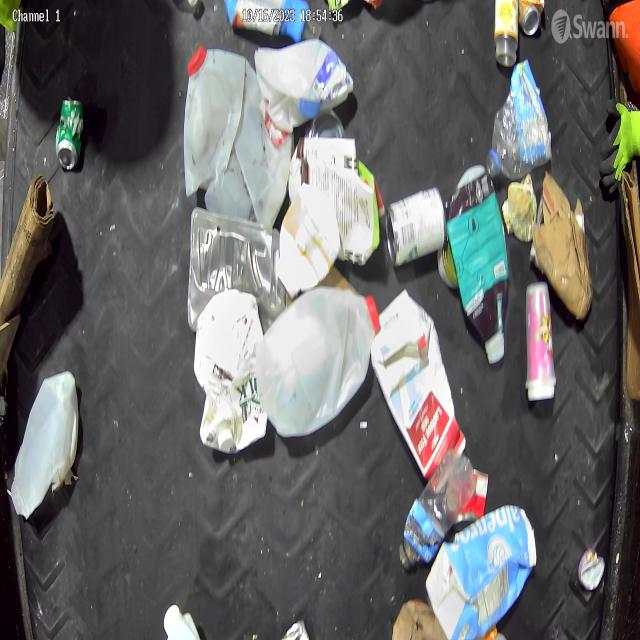can: (385, 186, 445, 267), (55, 95, 85, 171), (454, 468, 488, 531), (305, 109, 347, 139), (578, 548, 604, 590), (517, 0, 545, 35), (281, 619, 309, 640)
milk_jug: (183, 46, 293, 226), (256, 287, 380, 439), (194, 289, 267, 453), (10, 370, 79, 521), (254, 38, 355, 133)
non_white_jug: (372, 288, 467, 485), (426, 504, 536, 640), (449, 164, 509, 363)
plastic_bottle: (399, 450, 475, 570), (485, 60, 551, 178)
